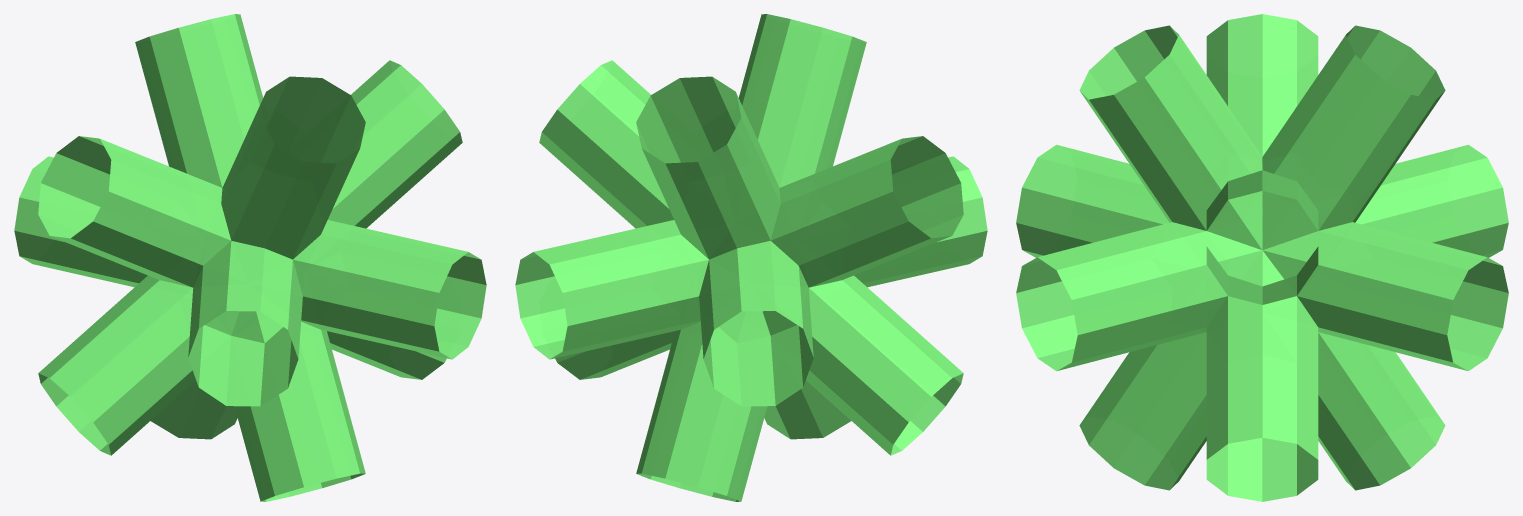
Rendered from SmallDodecahemidodecacron.obj.
3 views of the same model, side by side, from view 1: azimuth 30°, elevation 25°; view 2: azimuth 150°, elevation 25°; view 3: azimuth 270°, elevation 25° (orthographic). The views are drawn at different scales.
Bounding box in the file's own units: 13.61 × 13.61 × 13.61.
